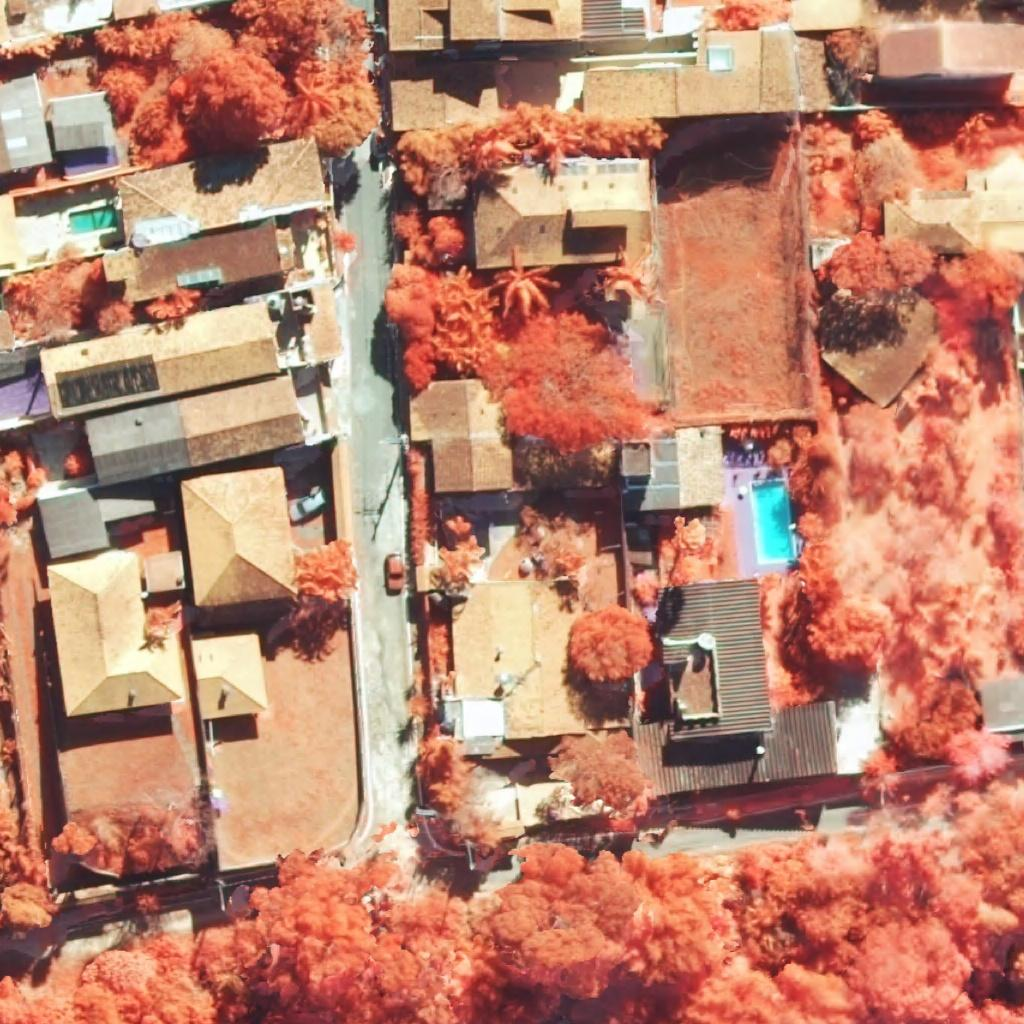pool: (751, 480, 795, 561), (69, 204, 118, 235)
